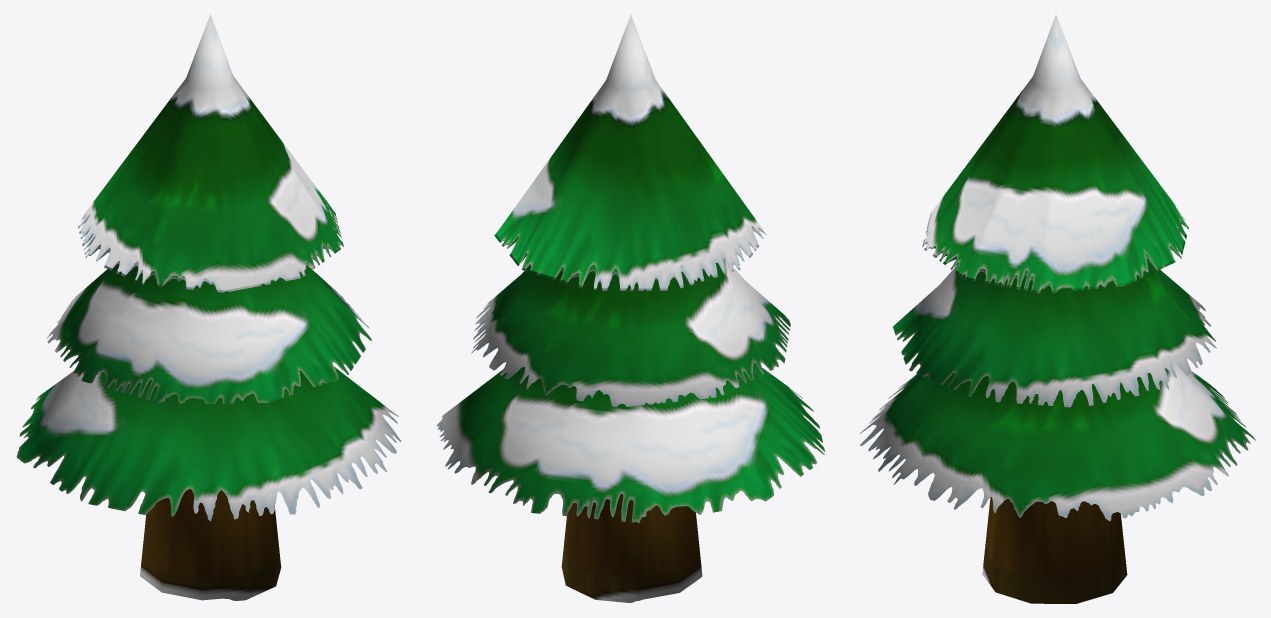
File: TREE.fbx
The picture shows the model from 3 angles, left to right: view 1: azimuth 30°, elevation 25°; view 2: azimuth 150°, elevation 25°; view 3: azimuth 270°, elevation 25°; orthographic projection.
Visible parts, largest first — view 1: Cylinder.052; view 2: Cylinder.052; view 3: Cylinder.052.
Boxes of the visible parts, x1,y1,x2,y2 form: Cylinder.052: (16,14,401,600); Cylinder.052: (437,14,824,602); Cylinder.052: (859,14,1255,603).
Bounding box in the file's own units: 47.65 × 76.9 × 49.91.
